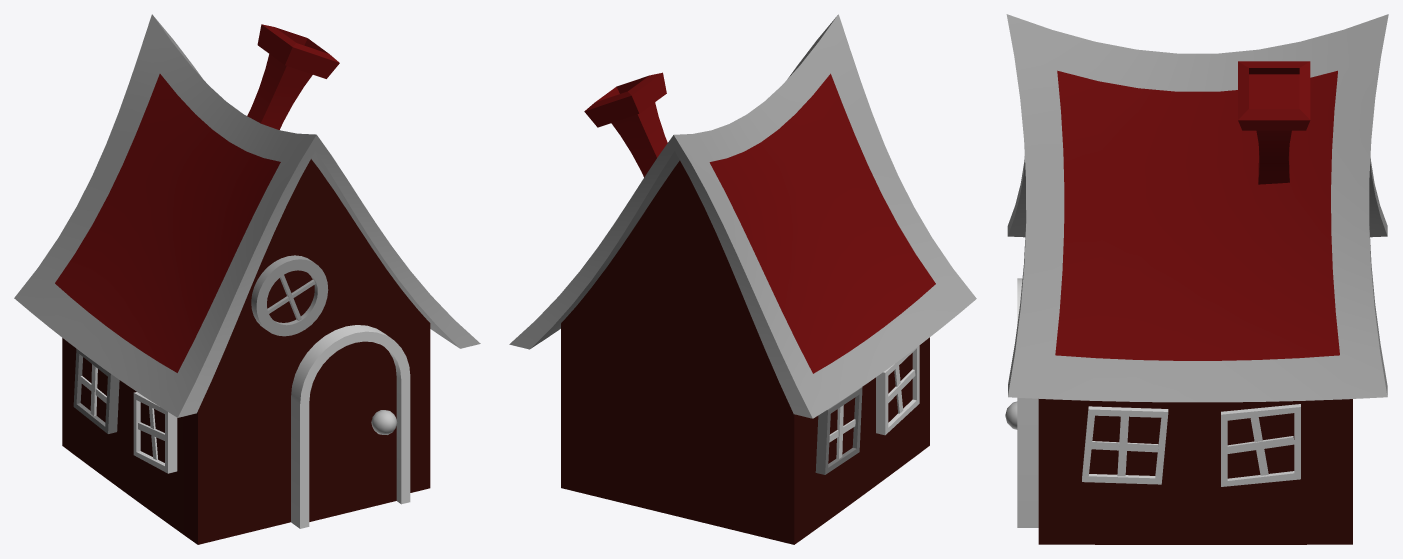
The model's file is 3D_CandyHouse.FBX.
3 views of the same model, side by side, from view 1: azimuth 30°, elevation 25°; view 2: azimuth 150°, elevation 25°; view 3: azimuth 270°, elevation 25° (orthographic). The views are drawn at different scales.
Parts seen in each view (by area): view 1: 3D_CandyHouse; view 2: 3D_CandyHouse; view 3: 3D_CandyHouse.
Boxes of the visible parts, x1,y1,x2,y2 form: 3D_CandyHouse: (14,14,480,544); 3D_CandyHouse: (509,14,976,544); 3D_CandyHouse: (1005,14,1388,544).
Bounding box in the file's own units: 102 × 127 × 96.04.
